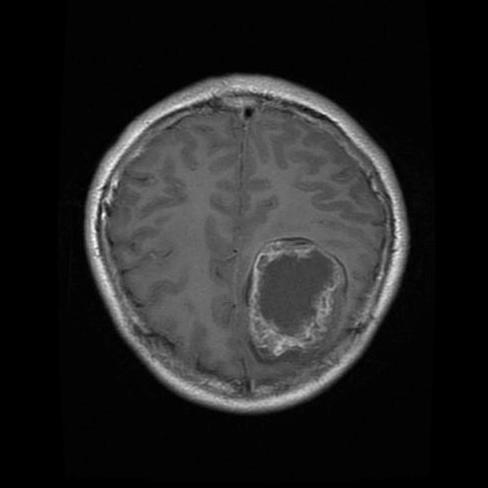Tumour-Glioma: (247, 242, 338, 358)
